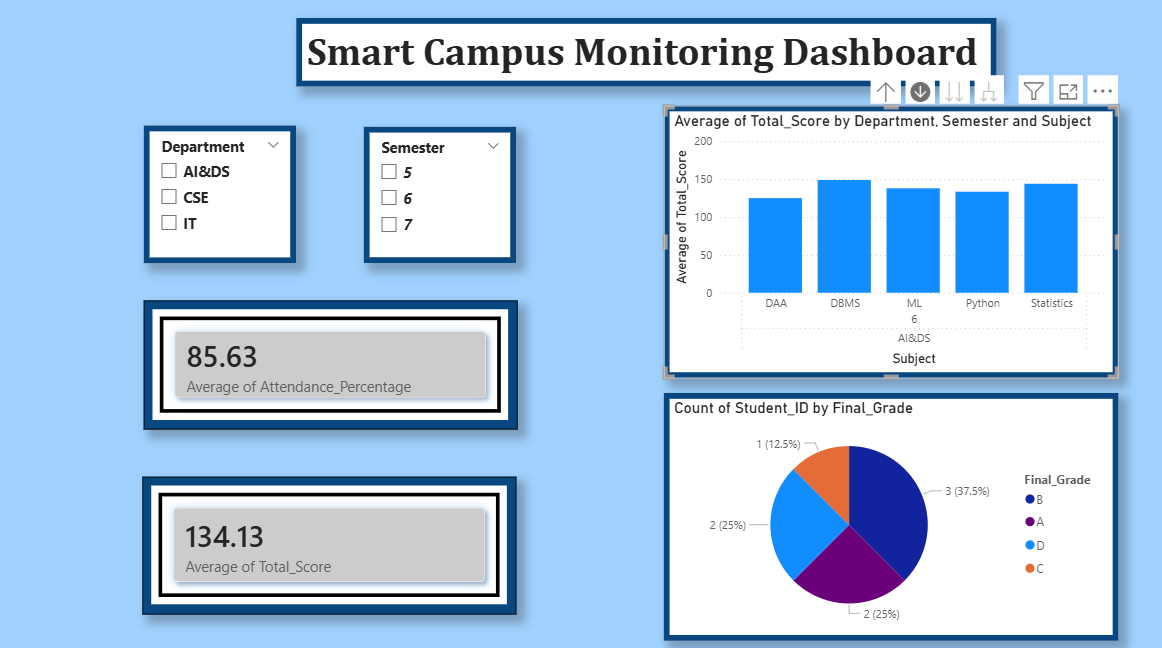

The dashboard page shown, as its layout file describes it:
{"tool":"powerbi","page":{"name":"Page 1","canvas":[1280,720],"ordinal":0},"visuals":[{"type":"textbox","box":[325.2,27.4,768.4,75.5],"z":0},{"type":"cardVisual","fields":{"Data":["Avg(5 student_performance.Attendance_Percentage)"]},"box":[157.8,337.6,410.3,141.3],"z":1000},{"type":"cardVisual","fields":{"Data":["Avg(5 student_performance.Total_Score)"]},"box":[156.4,531,410.3,150.9],"z":2000},{"type":"slicer","fields":{"Values":["5 student_performance.Department"]},"box":[157.8,145.5,167.4,150.9],"z":3000},{"type":"slicer","fields":{"Values":["5 student_performance.Semester"]},"box":[399.3,146.8,167.4,149.6],"z":4000},{"type":"clusteredColumnChart","fields":{"Y":["Avg(5 student_performance.Total_Score)"],"Category":["5 student_performance.Department","5 student_performance.Semester","5 student_performance.Subject"]},"box":[728.6,123.5,499.5,299.1],"z":5000},{"type":"pieChart","fields":{"Category":["5 student_performance.Final_Grade"],"Y":["CountNonNull(5 student_performance.Student_ID)"]},"box":[728.6,439.1,499.5,271.7],"z":6000}]}

Visuals, with their boxes in screenshot pixels (x1, y1, x2, y2), scaled from the page's 1280x720 canvas onto the 1162x648 screenshot:
textbox: [x1=295, y1=25, x2=993, y2=93]
cardVisual - Avg(5 student_performance.Attendance_Percentage): [x1=143, y1=304, x2=516, y2=431]
cardVisual - Avg(5 student_performance.Total_Score): [x1=142, y1=478, x2=514, y2=614]
slicer - 5 student_performance.Department: [x1=143, y1=131, x2=295, y2=267]
slicer - 5 student_performance.Semester: [x1=362, y1=132, x2=514, y2=267]
clusteredColumnChart - Avg(5 student_performance.Total_Score) x 5 student_performance.Department: [x1=661, y1=111, x2=1115, y2=380]
pieChart - 5 student_performance.Final_Grade x CountNonNull(5 student_performance.Student_ID): [x1=661, y1=395, x2=1115, y2=640]
